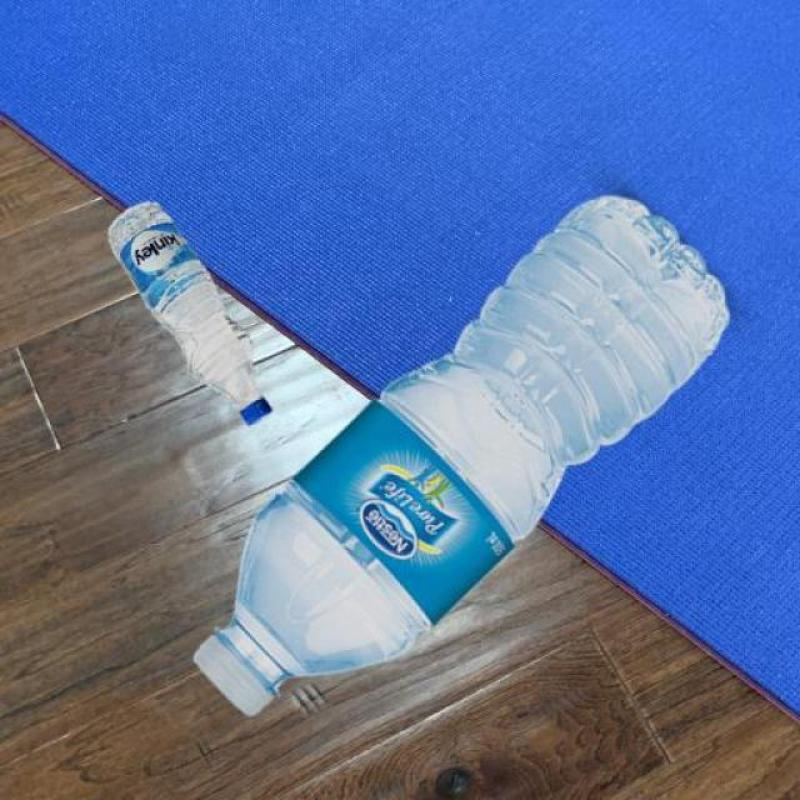botella: (182, 192, 733, 723), (104, 198, 270, 427)
